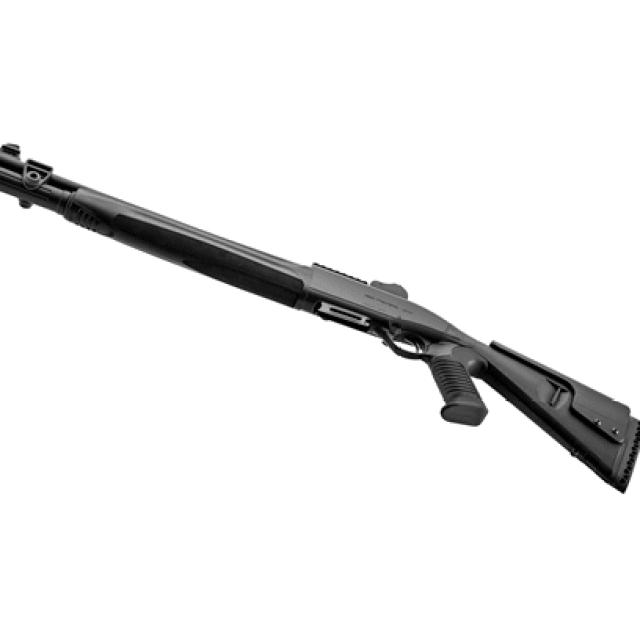Weapon: (0, 146, 640, 489)
